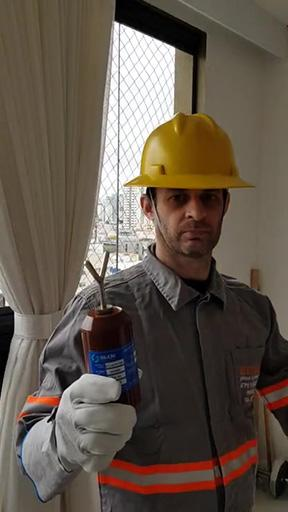Detector_Tensao_Contato: (81, 251, 138, 418)
